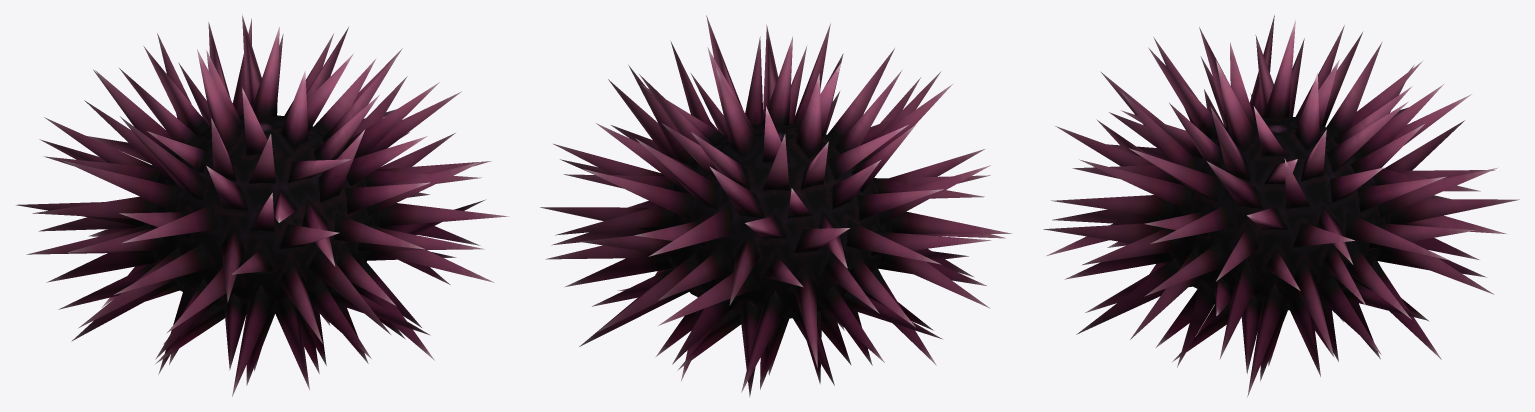
The model's file is sea-urchin.glb.
The picture shows the model from 3 angles, left to right: view 1: azimuth 30°, elevation 25°; view 2: azimuth 150°, elevation 25°; view 3: azimuth 270°, elevation 25°; orthographic projection. The views are drawn at different scales.
Visible parts, largest first — view 1: DiveFishUni__mUni; view 2: DiveFishUni__mUni; view 3: DiveFishUni__mUni.
Boxes of the visible parts, x1,y1,x2,y2 form: DiveFishUni__mUni: [16, 14, 509, 396]; DiveFishUni__mUni: [540, 15, 1012, 397]; DiveFishUni__mUni: [1043, 15, 1519, 397].
Bounding box in the file's own units: 0.9807 × 0.6723 × 1.
Materials: 1 (1 with a texture image).
